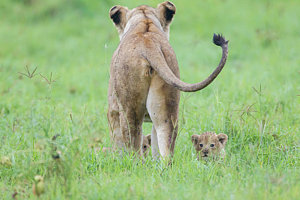lion: (105, 1, 230, 175), (191, 129, 230, 171), (136, 130, 153, 164)
